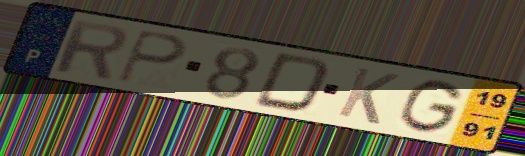8: (200, 44, 264, 102)
D: (249, 50, 335, 114)
G: (395, 79, 466, 136)
K: (334, 64, 403, 127)
P: (113, 27, 189, 85)
R: (52, 17, 130, 82)
